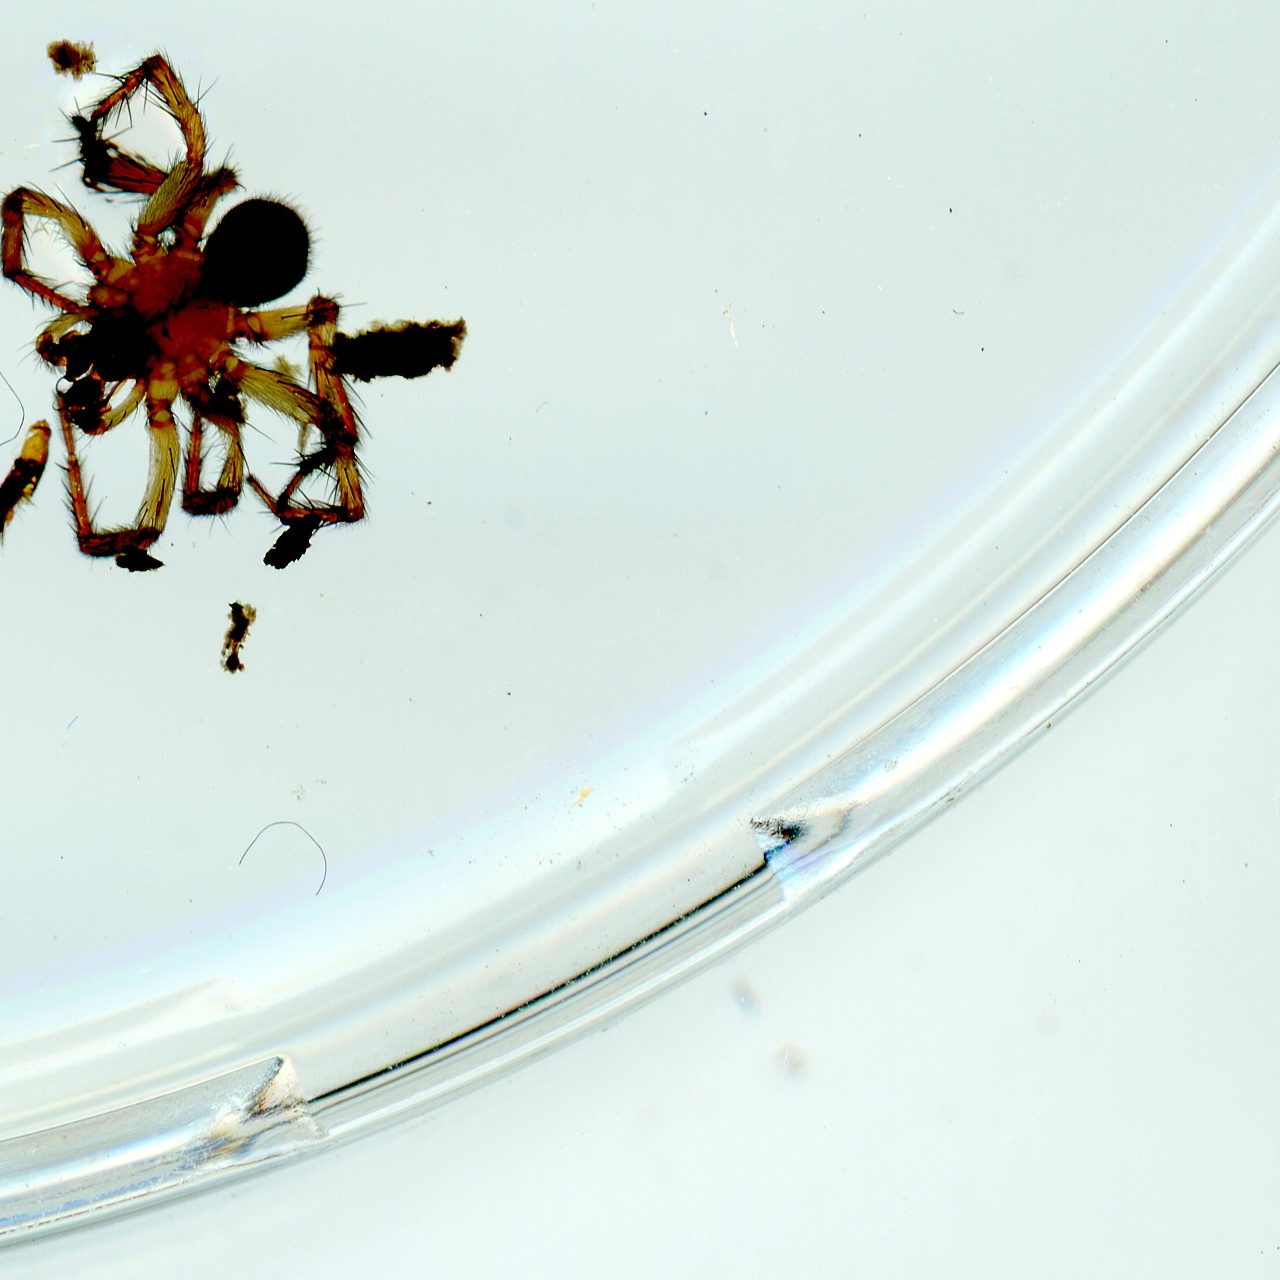arthropod: (0, 29, 392, 581)
